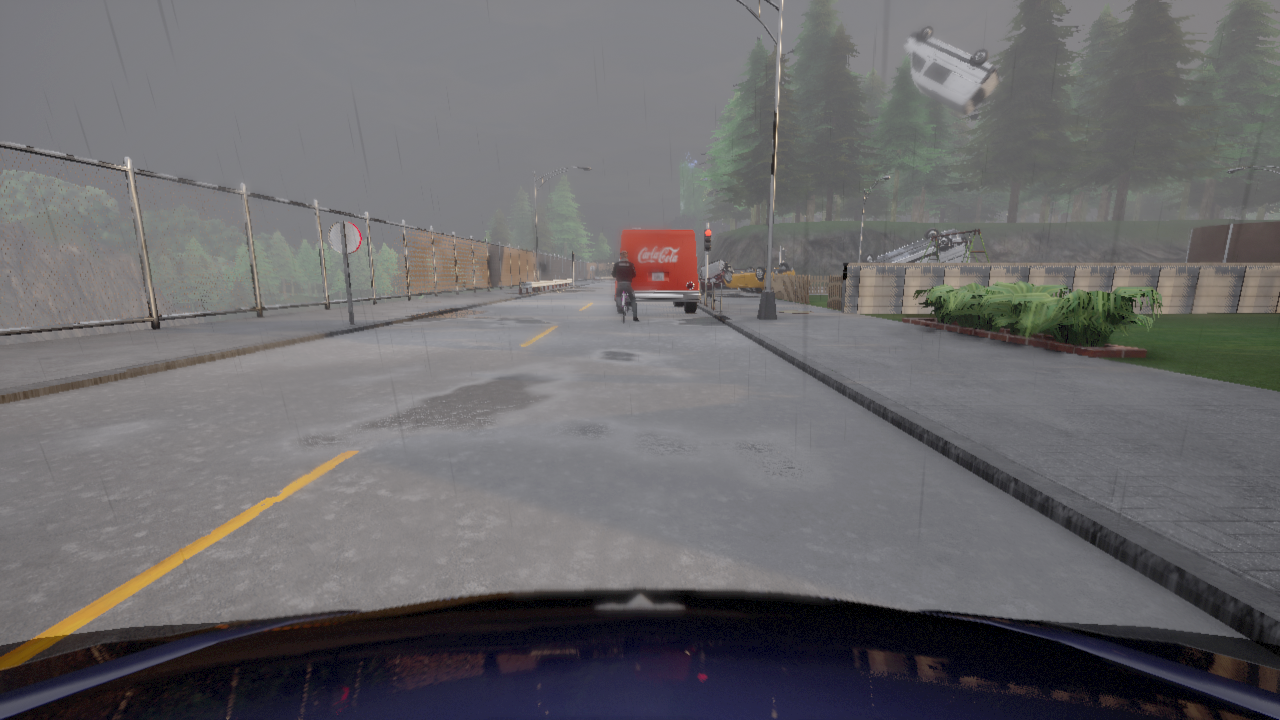cyclist: (0, 588, 1279, 719), (905, 26, 999, 114), (615, 229, 701, 312), (863, 228, 969, 261), (724, 262, 794, 292), (698, 259, 732, 291), (708, 268, 744, 290), (618, 290, 631, 323)
